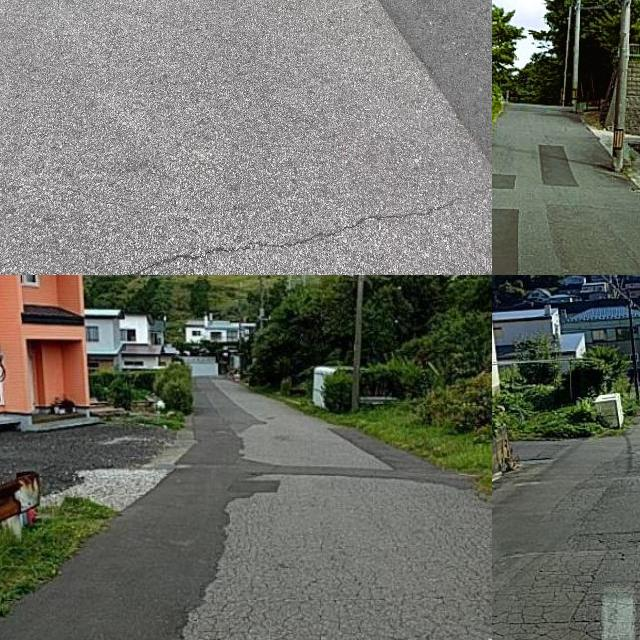Melintang: (0, 172, 492, 275)
Retak Buaya: (492, 556, 640, 640)
Sambungan: (0, 432, 280, 640), (377, 0, 492, 177), (535, 144, 576, 187), (492, 173, 518, 192)
